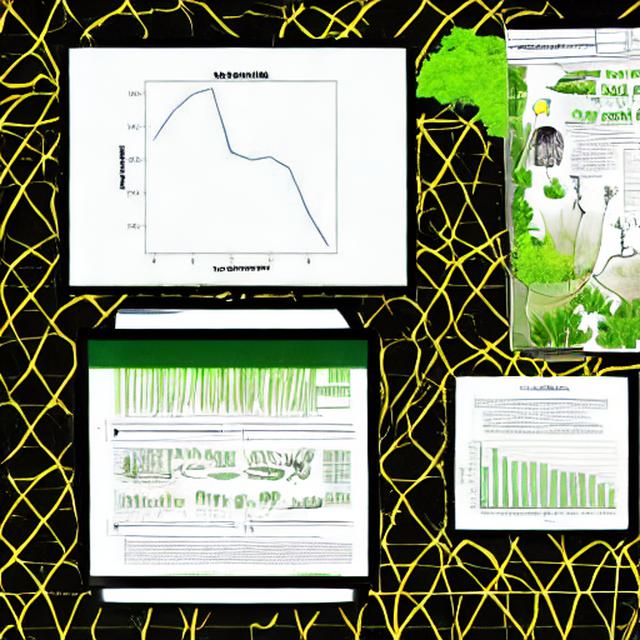Graph: (74, 54, 400, 278), (457, 429, 619, 526), (112, 480, 186, 520)
